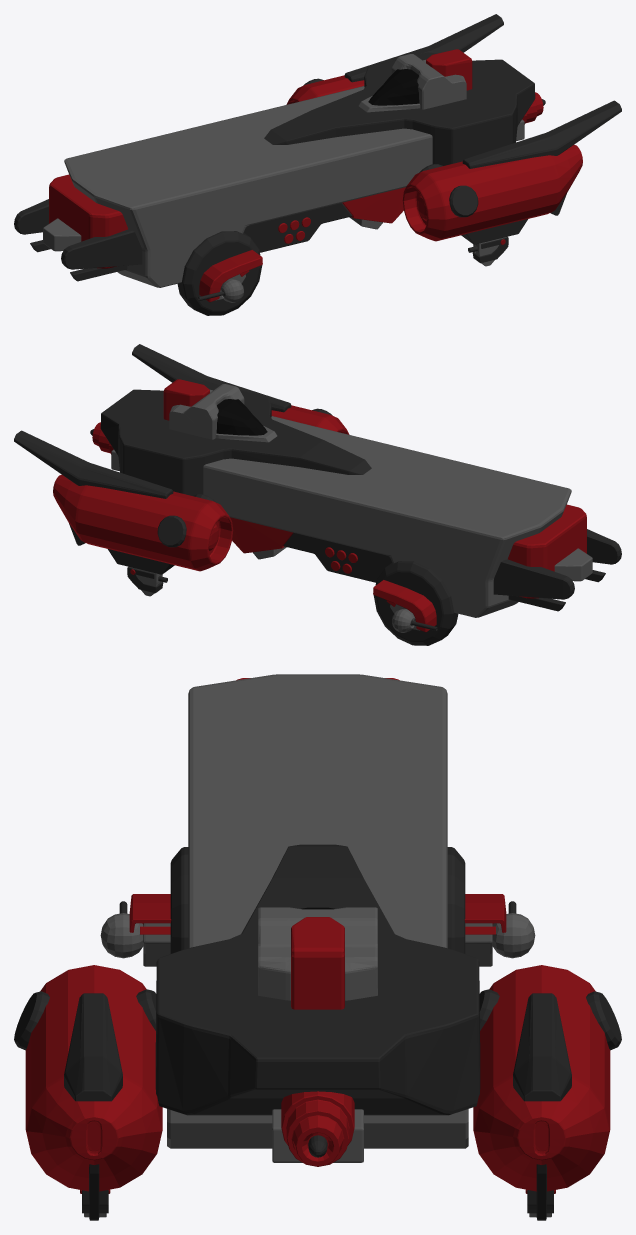
The model's file is fga_fregate3_r.glb.
3 renders of one model, top to bottom at view 1: azimuth 30°, elevation 25°; view 2: azimuth 150°, elevation 25°; view 3: azimuth 270°, elevation 25°, orthographic. The views are drawn at different scales.
Visible parts, largest first — view 1: Frigate_3; view 2: Frigate_3; view 3: Frigate_3.
Part boxes in pixels (x1,y1,x2,y2): Frigate_3: (14, 14, 621, 315); Frigate_3: (14, 344, 621, 645); Frigate_3: (14, 674, 621, 1220).
Size of the model in its own units: 4102 by 1274 by 2189.
Materials: 1 (1 with a texture image).
